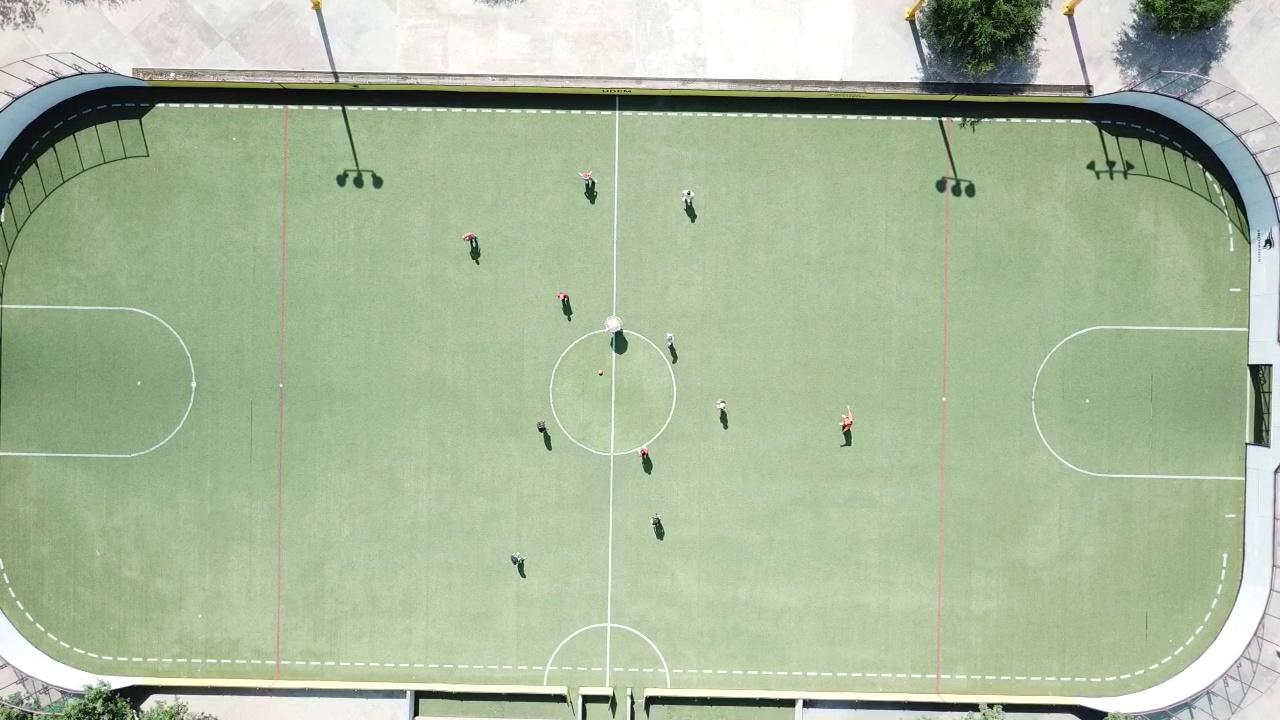ball: (598, 369, 603, 375)
player: (840, 405, 856, 443), (604, 316, 623, 334), (512, 554, 526, 572), (463, 232, 477, 247), (682, 189, 695, 205), (579, 170, 594, 183), (638, 445, 650, 460), (556, 292, 569, 304), (537, 420, 547, 434), (665, 332, 675, 346), (716, 399, 726, 411), (653, 513, 660, 522)
